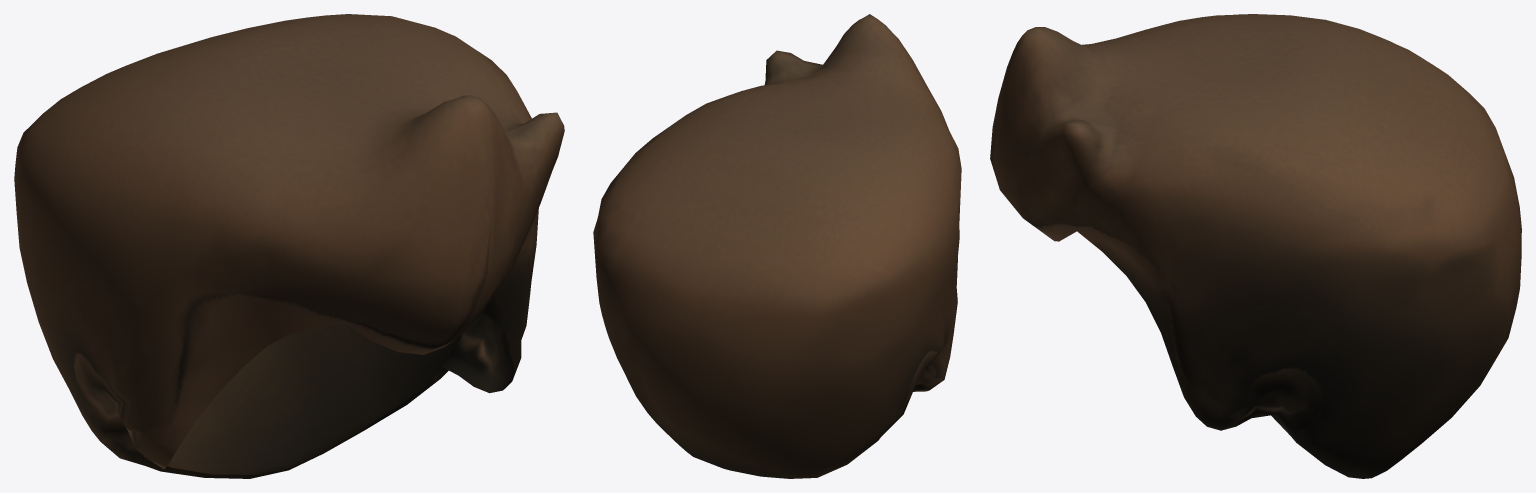
File: Hair_M02.fbx
3 views of the same model, side by side, from view 1: azimuth 30°, elevation 25°; view 2: azimuth 150°, elevation 25°; view 3: azimuth 270°, elevation 25° (orthographic). The views are drawn at different scales.
Parts seen in each view (by area): view 1: Hair_M02; view 2: Hair_M02; view 3: Hair_M02.
Part boxes in pixels (<box>): Hair_M02: <box>14,14,564,478</box>; Hair_M02: <box>593,14,961,478</box>; Hair_M02: <box>990,14,1521,478</box>.
Bounding box in the file's own units: 3.28 × 3.59 × 3.95.
